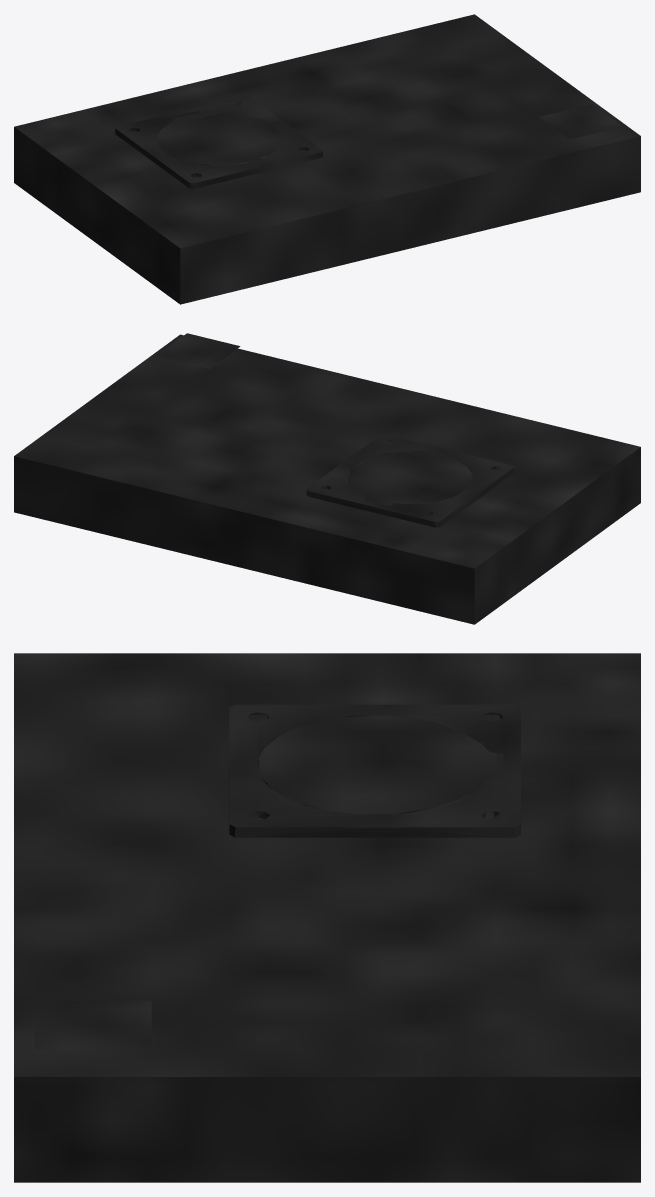
3 renders of one model, top to bottom at view 1: azimuth 30°, elevation 25°; view 2: azimuth 150°, elevation 25°; view 3: azimuth 270°, elevation 25°, orthographic. The views are drawn at different scales.
Parts seen in each view (by area): view 1: robotic_arm.002; view 2: robotic_arm.002; view 3: robotic_arm.002.
Part boxes in pixels (x1,y1,x2,y2): robotic_arm.002: [14, 14, 640, 304]; robotic_arm.002: [14, 333, 640, 624]; robotic_arm.002: [14, 653, 640, 1182].
Bounding box in the file's own units: 8.85 × 1.18 × 5.53.
Materials: 1 (1 with a texture image).
